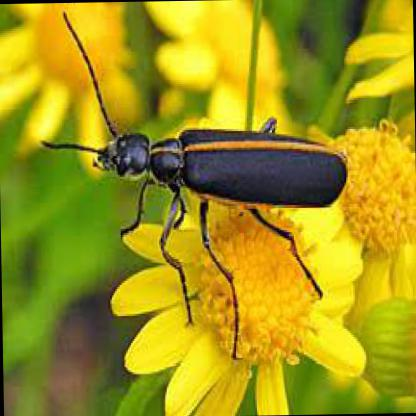blister beetle: (41, 11, 349, 250)
